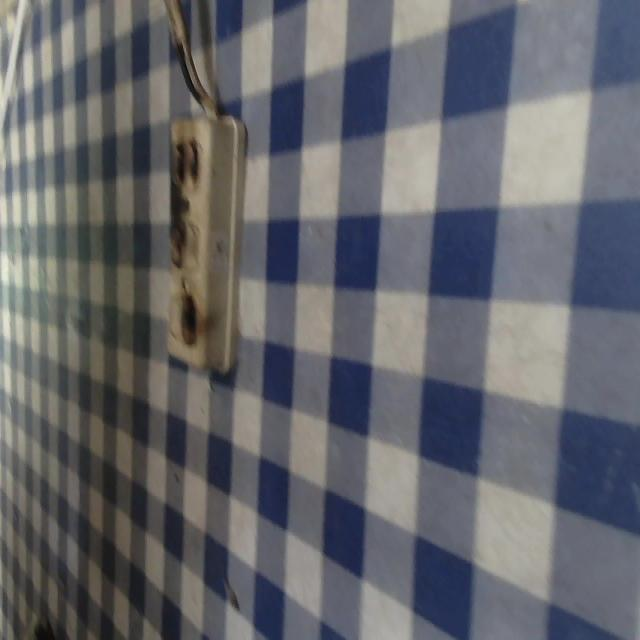-: (171, 134, 200, 190), (180, 288, 200, 348), (166, 218, 185, 266)
